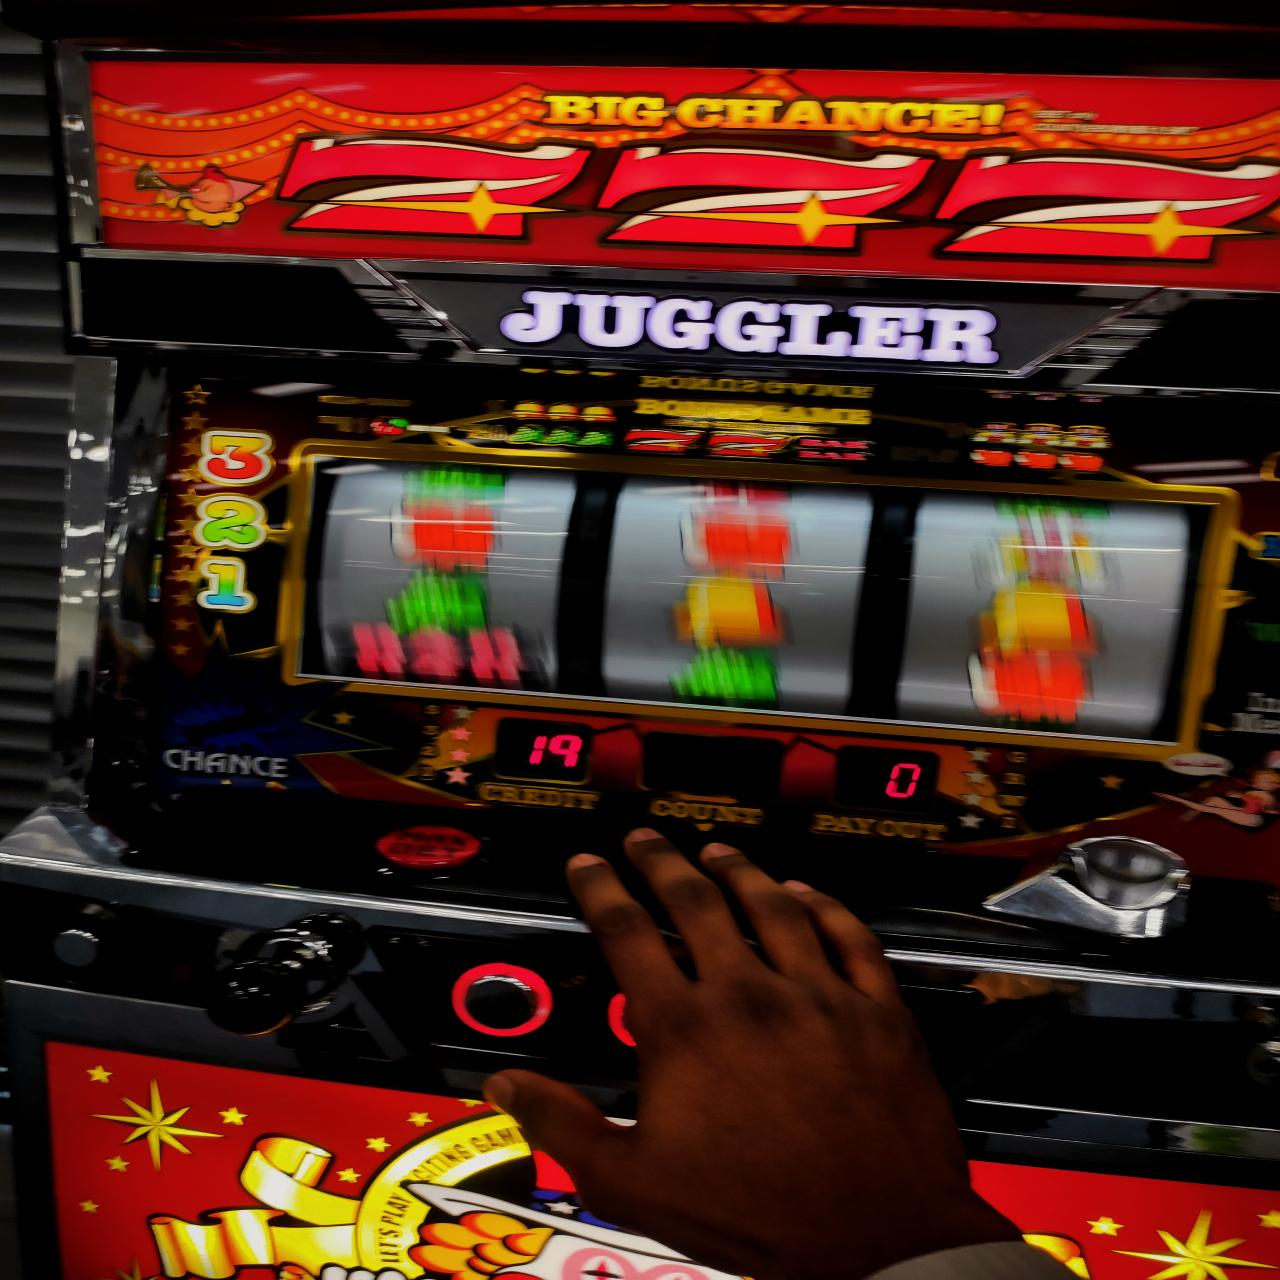rhino: (300, 448, 1184, 747)
